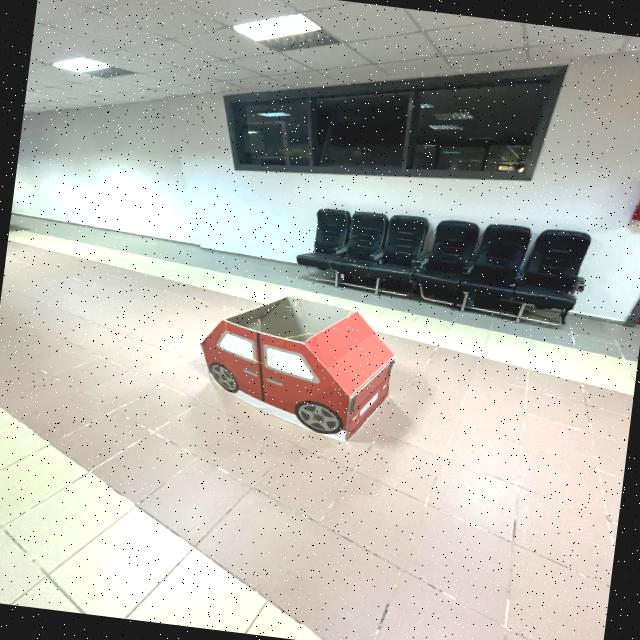red_car: (169, 271, 428, 460)
